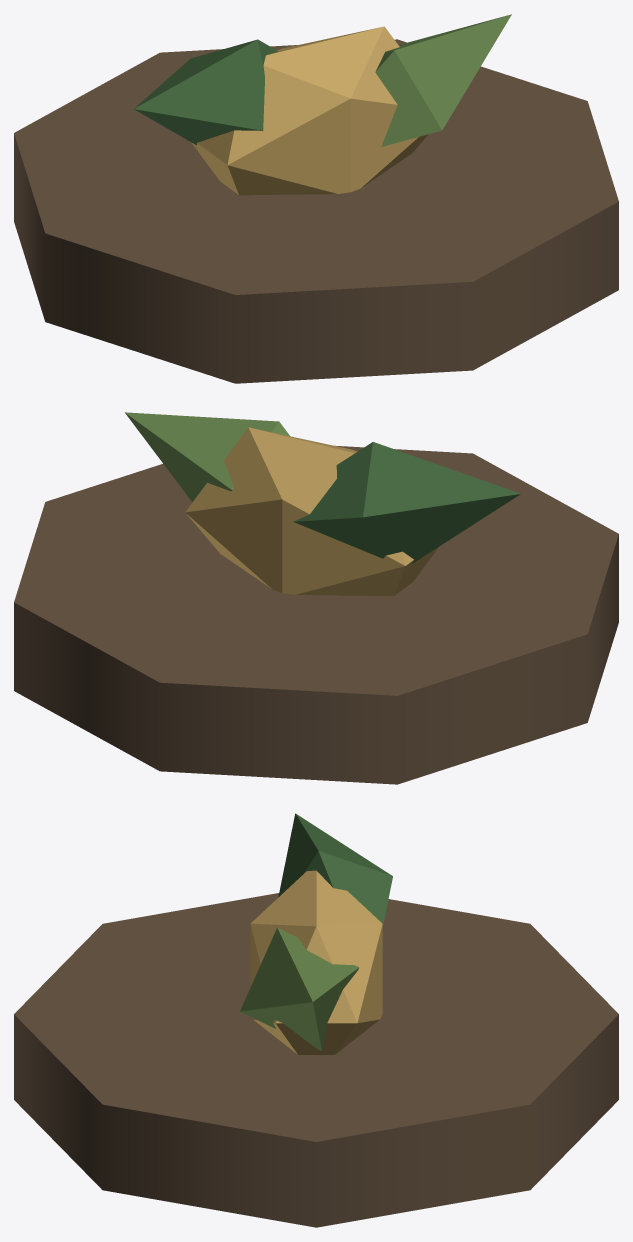
File: plant-pumpkin-0.glb
3 renders of one model, top to bottom at view 1: azimuth 30°, elevation 25°; view 2: azimuth 150°, elevation 25°; view 3: azimuth 270°, elevation 25°, orthographic. The views are drawn at different scales.
Visible parts, largest first — view 1: plant-pumpkin-0-visual; view 2: plant-pumpkin-0-visual; view 3: plant-pumpkin-0-visual.
Part boxes in pixels (x1=…): plant-pumpkin-0-visual: x1=14, y1=14, x2=618, y2=383; plant-pumpkin-0-visual: x1=14, y1=412, x2=618, y2=784; plant-pumpkin-0-visual: x1=14, y1=813, x2=618, y2=1227.
Size of the model in its own units: 0.32 by 0.1296 by 0.32.
